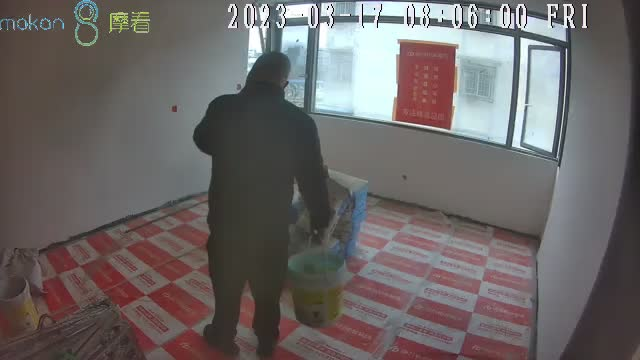people: (192, 51, 330, 354)
window: (269, 3, 563, 161)
